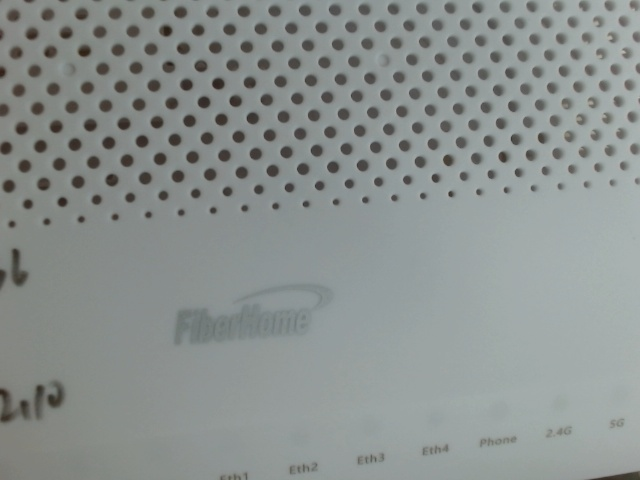AI_FiberHome: (151, 275, 340, 352)
